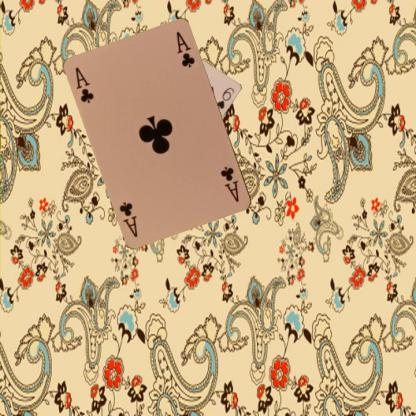Ac: (72, 64, 96, 105), (218, 164, 241, 204)
